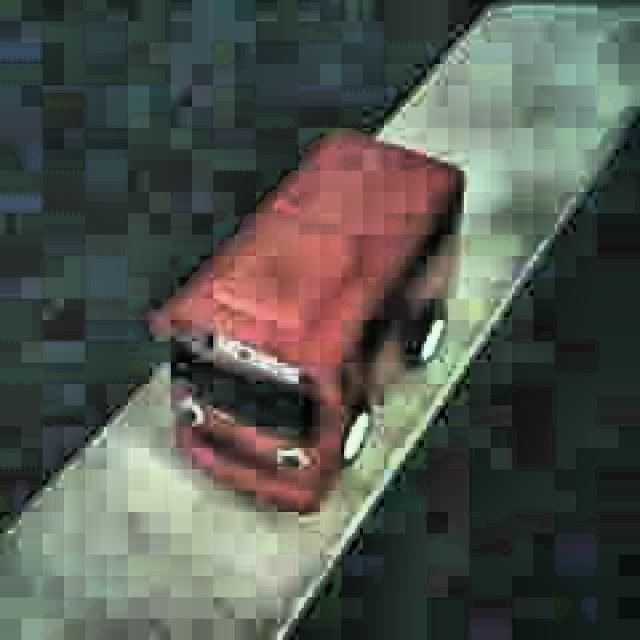bus: (154, 126, 465, 514)
